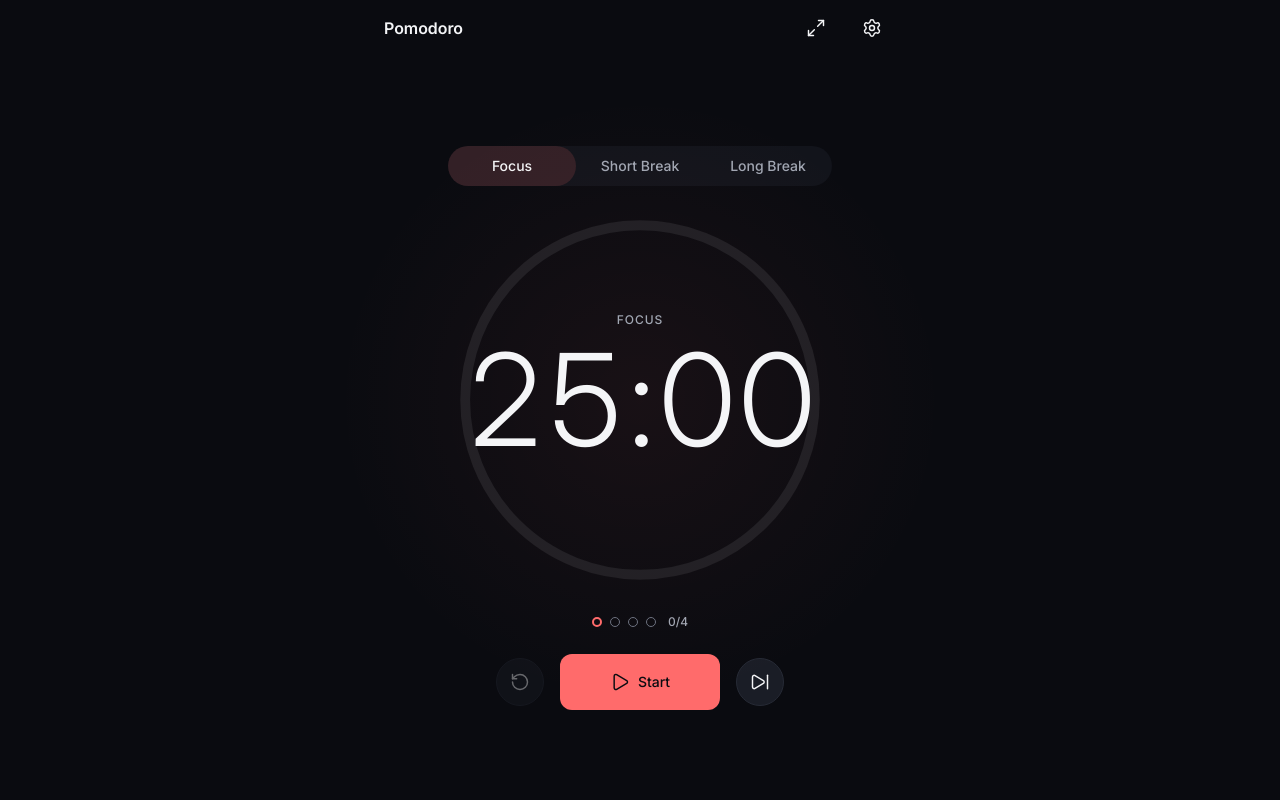
SettingsSheet (POMO-AC11-POMO-AC13, POMO-AC24, POMO-AC26) › rejects 61 in Long Break on Save: error shown, nothing written
Click the button named "Open settings" at (872, 28), box [848, 4, 896, 52]
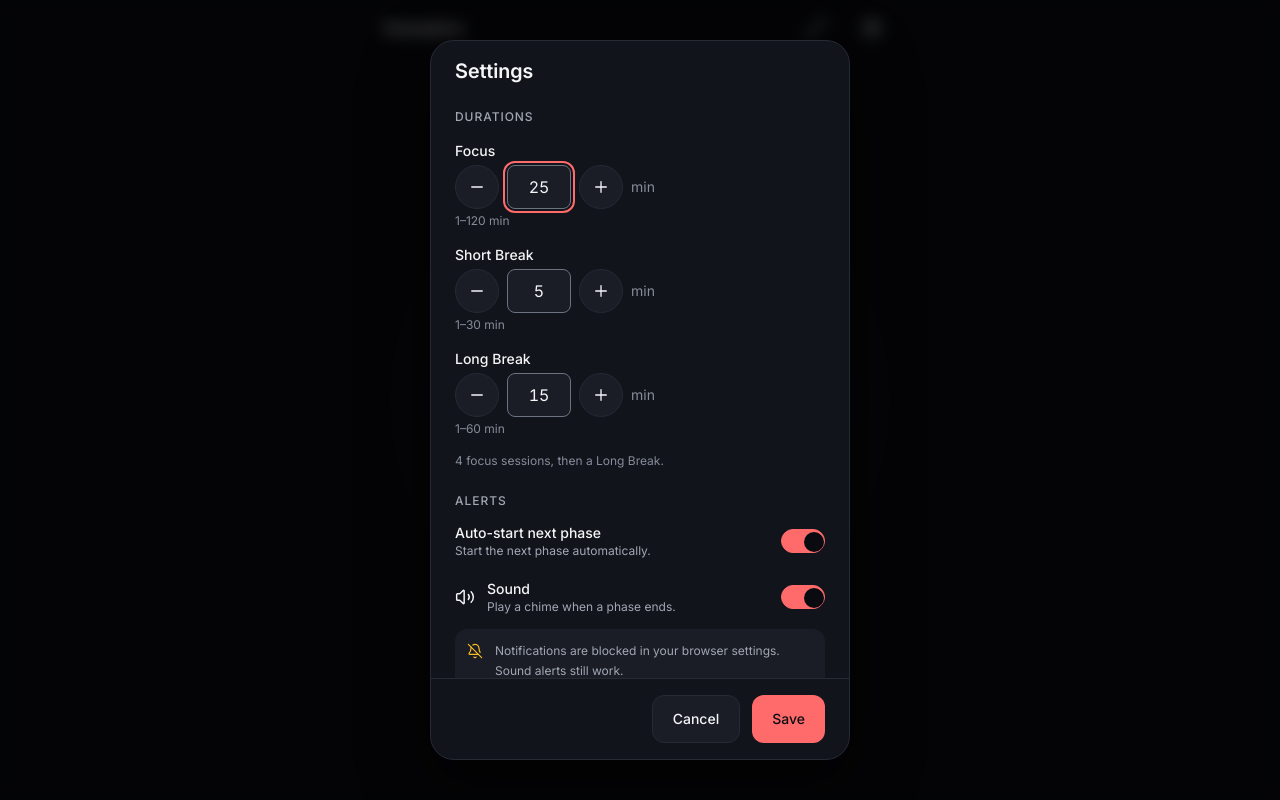
Replace the text in the field labelled "Focus" with "40" at (539, 187), box [507, 165, 571, 209]
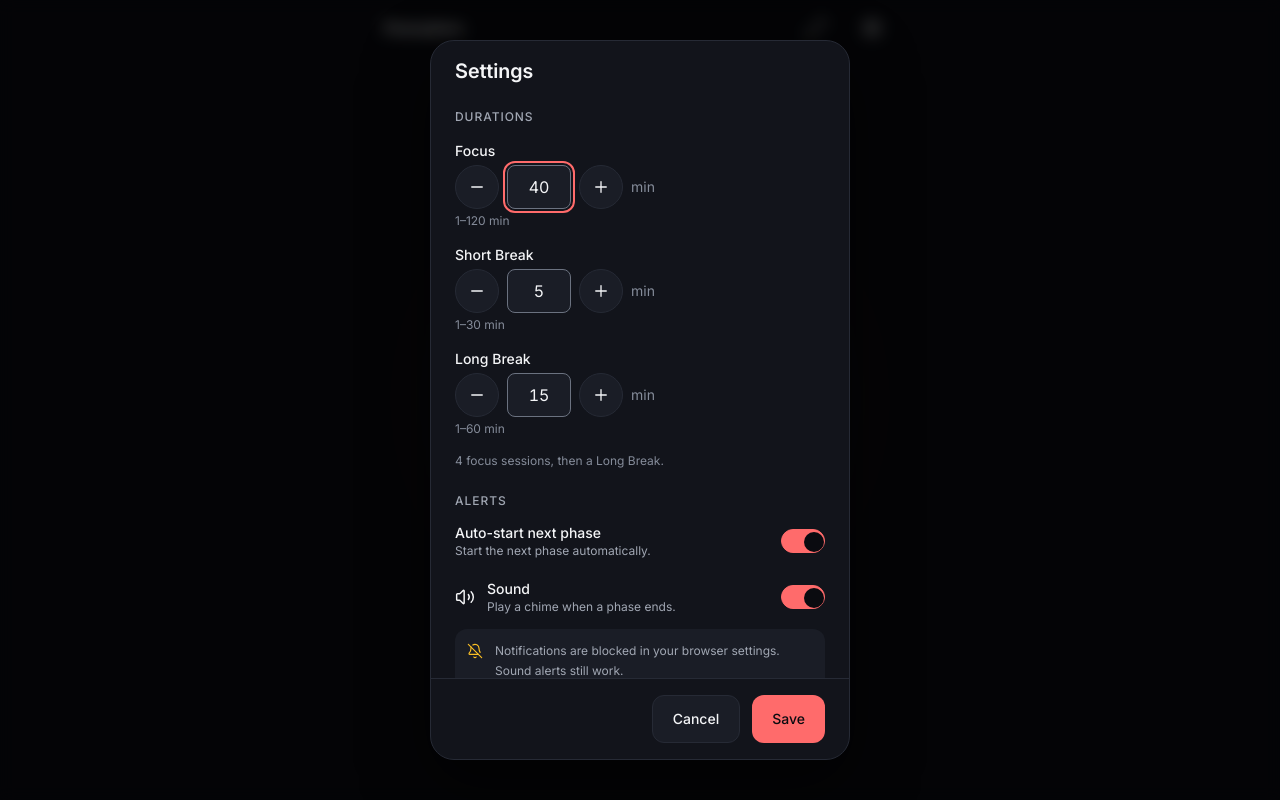
Replace the text in the field labelled "Long Break" with "61" at (539, 395), box [507, 373, 571, 417]
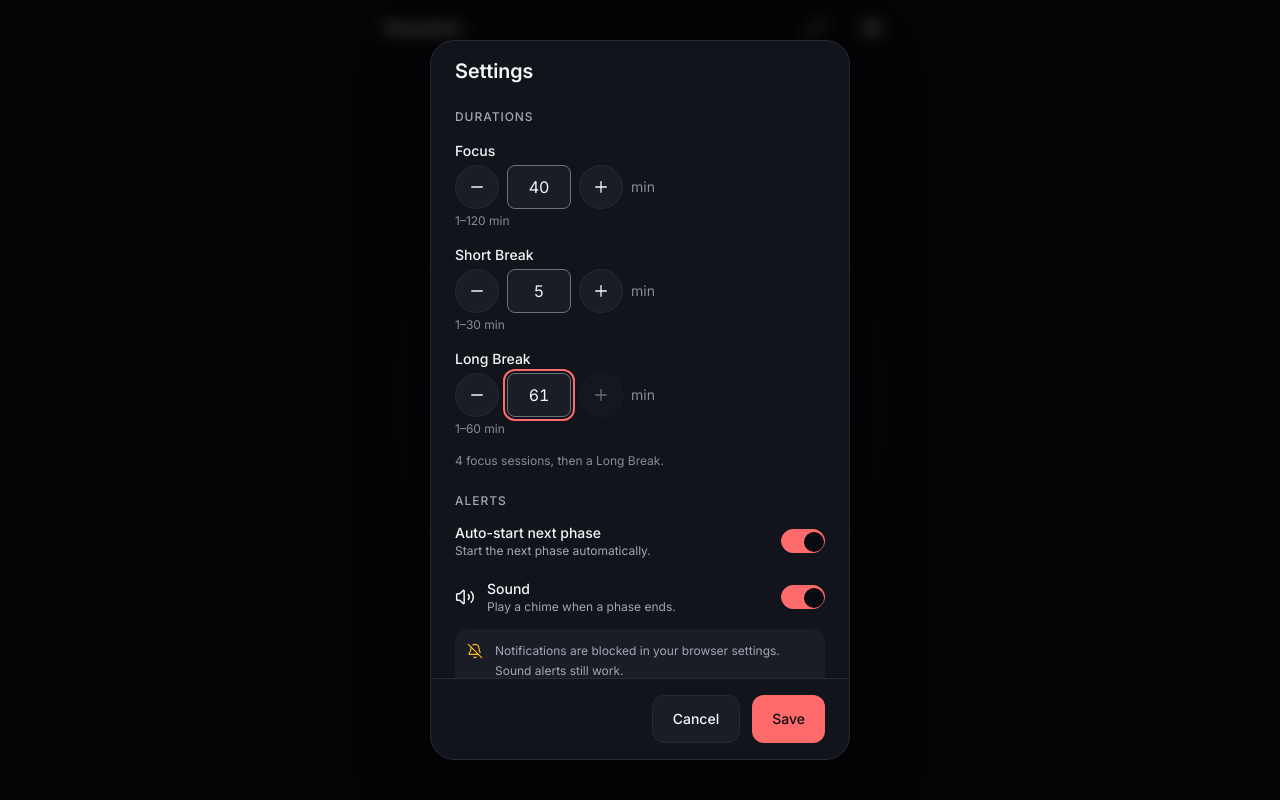
Click the button "Save" at (789, 719), box [752, 695, 825, 743]
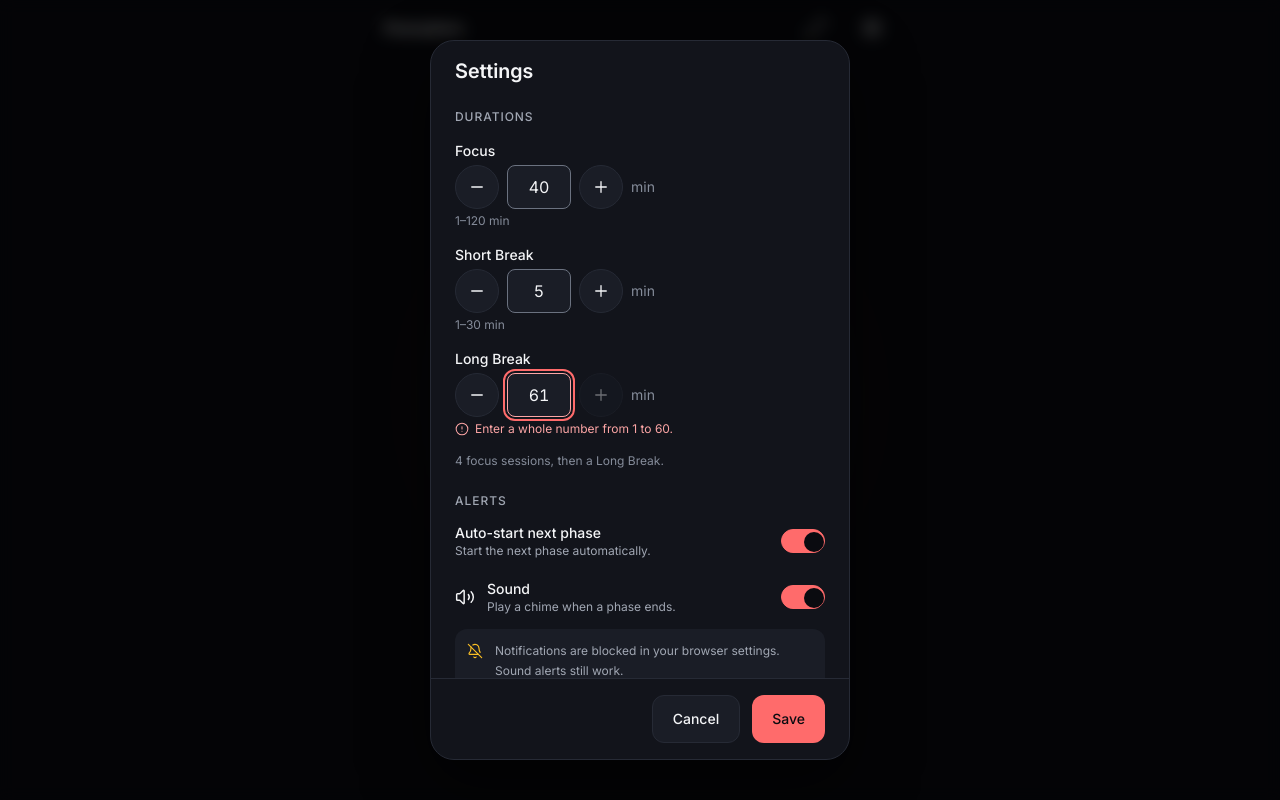
Expected: the text "25:00" is shown, [464, 336, 816, 464]
Expected: the dialog is shown, [430, 40, 850, 760]
Expected: the text "Enter a whole number from 1 to 60." is shown, [455, 421, 673, 436]
